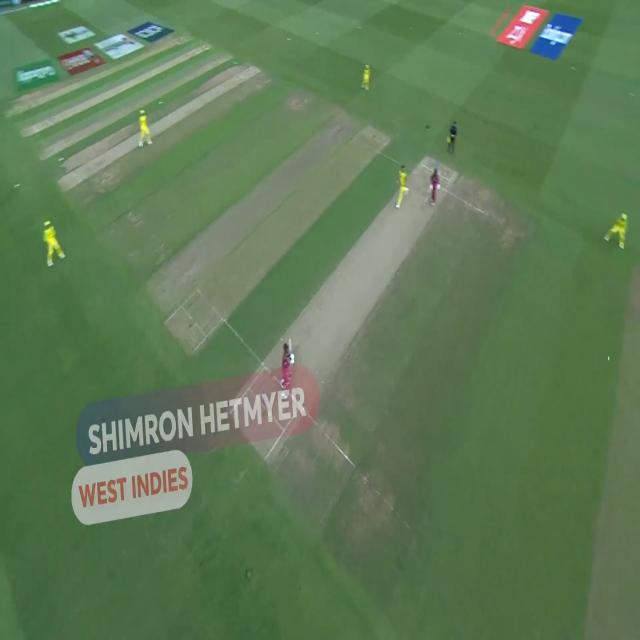ball: (602, 350, 618, 366)
